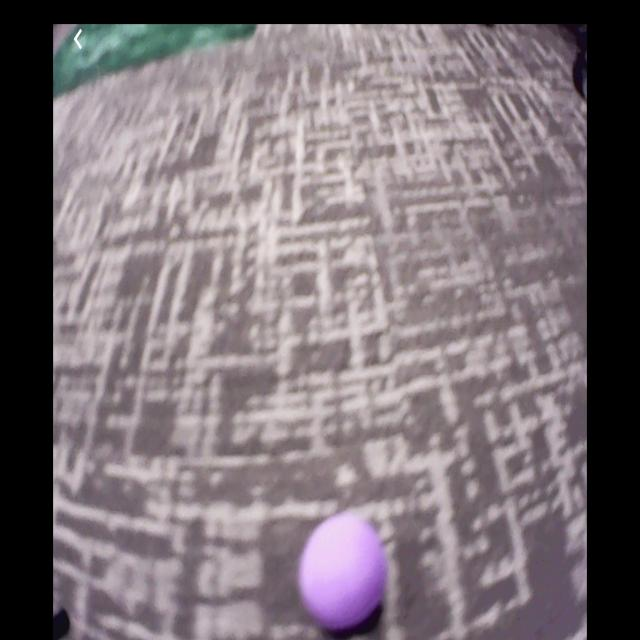ball: (300, 513, 387, 634)
